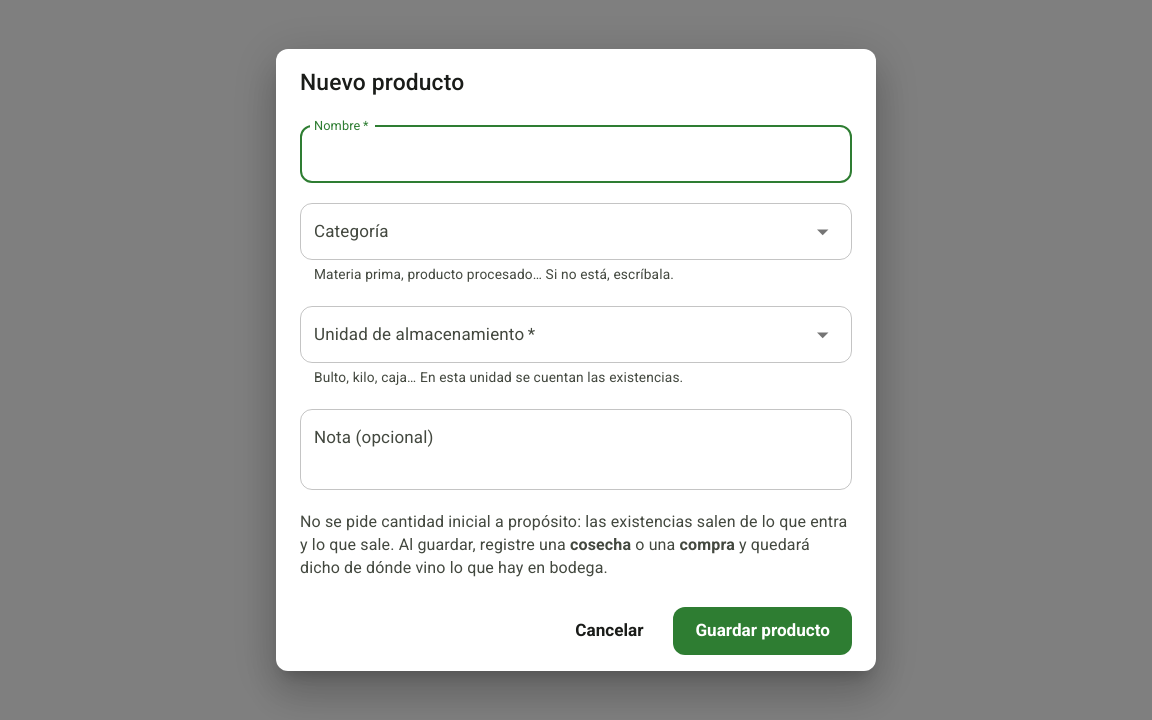
Scenario: ProductFormDialog › asks for a name and a storage unit before saving
Expected: the heading "Nuevo producto" is shown, x1=300 y1=68 x2=464 y2=96
Expected: the text "No se pide cantidad inicial" is shown, x1=300 y1=512 x2=847 y2=554
Click the button "Guardar producto". click: (763, 632)
box: x1=673 y1=608 x2=852 y2=656
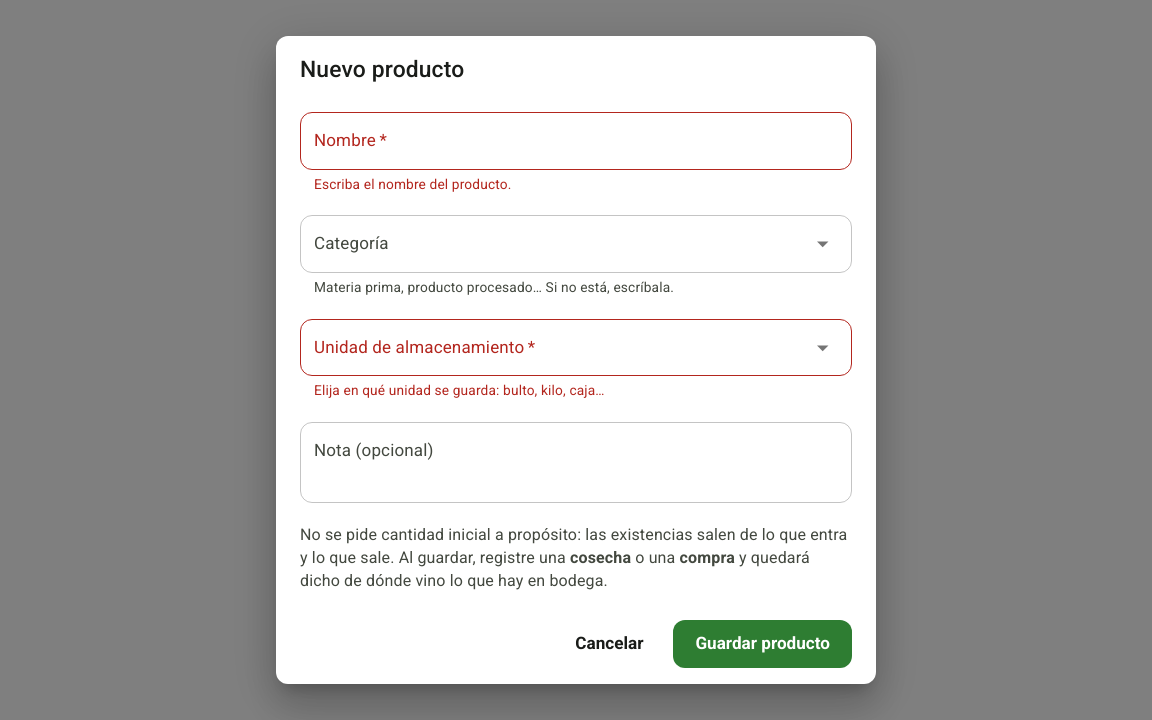
Now the text "Escriba el nombre del producto." is shown, box x1=314 y1=176 x2=512 y2=192
Now the text "Elija en qué unidad se guarda: bulto, kilo, caja…" is shown, box x1=314 y1=382 x2=605 y2=398
